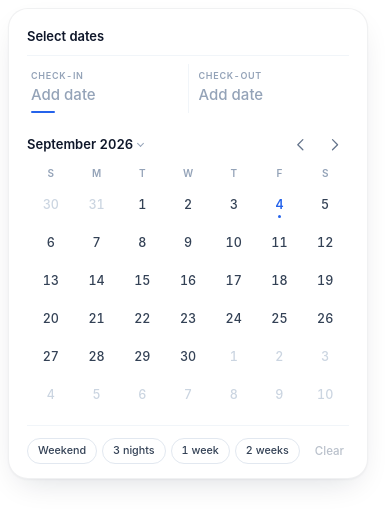
Test: DatePicker: selection › empties the selection with Clear
The image size is (385, 509).
Expected: the button "Clear" is disabled, [310,438,349,464]
Click the button "1 week".
click(200, 451)  # box [171,438,230,464]
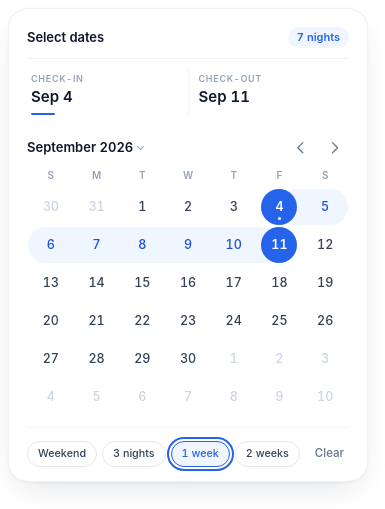
Now the button "Clear" is enabled
Click the button "Clear".
click(329, 454)  # box [310,440,349,467]
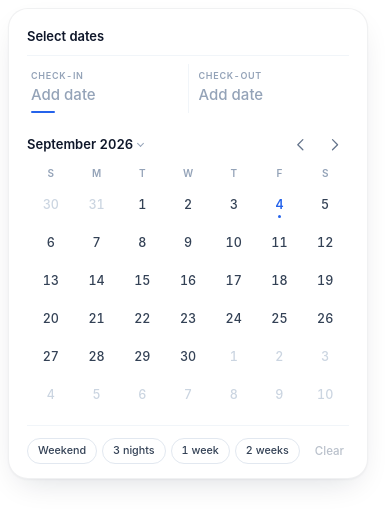
Expected: the text "Add date" is shown 2 times, [31,86,96,113]; [198,86,263,113]
Now the text with class "dpng-header__badge" is gone
Now the button "Clear" is disabled, box [310,438,349,464]
